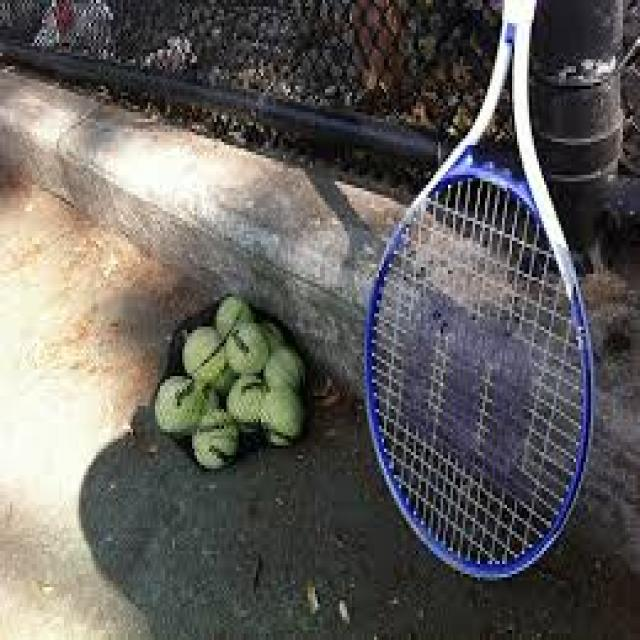Tennis-Ball: (136, 280, 364, 495)
